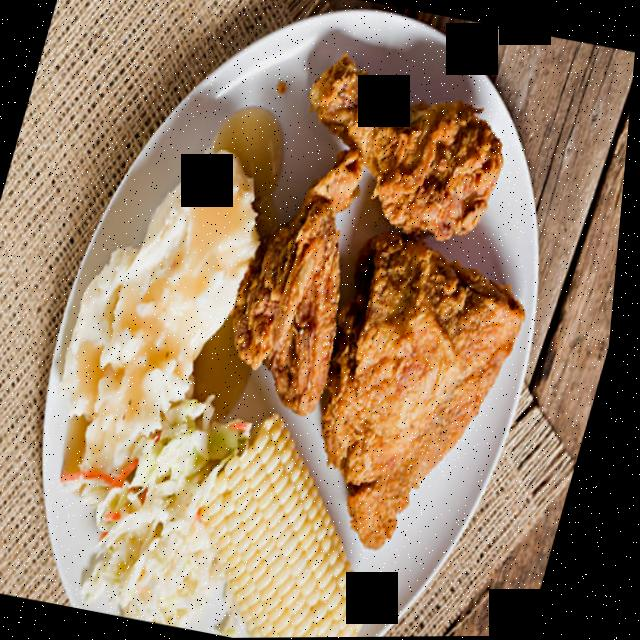Frango: (176, 25, 601, 571)
